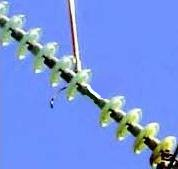gap: (65, 67, 127, 129)
